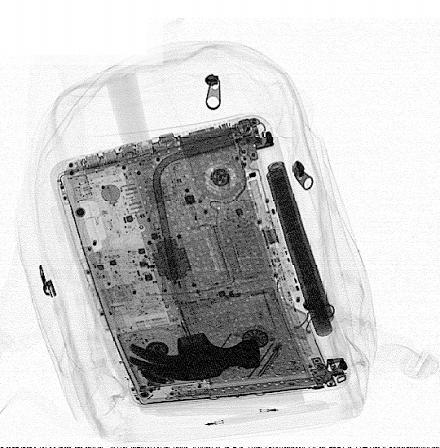Hammer: (105, 72, 261, 380)
